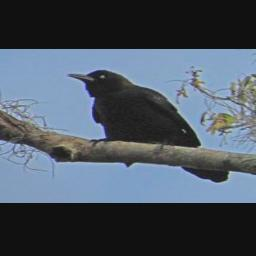Crow: (68, 70, 230, 183)
